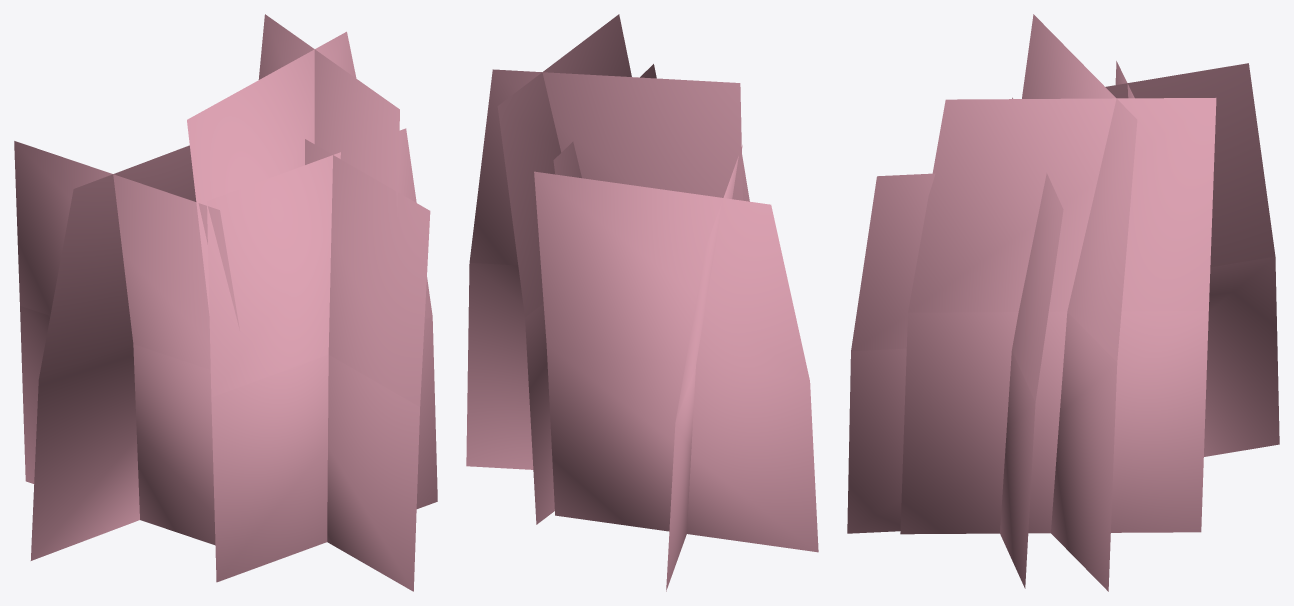
The model's file is flowers_1.glb.
3 views of the same model, side by side, from view 1: azimuth 30°, elevation 25°; view 2: azimuth 150°, elevation 25°; view 3: azimuth 270°, elevation 25° (orthographic). The views are drawn at different scales.
Parts seen in each view (by area): view 1: flowers_1; view 2: flowers_1; view 3: flowers_1.
Part boxes in pixels (bbox=[...]): flowers_1: bbox=[14, 14, 437, 591]; flowers_1: bbox=[466, 14, 818, 591]; flowers_1: bbox=[847, 14, 1279, 591].
Size of the model in its own units: 0.88 by 0.993 by 0.8622.
